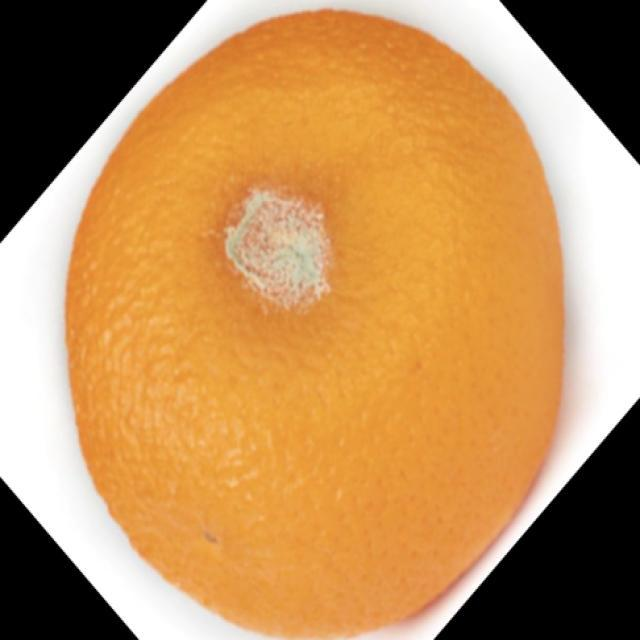sedikit-busuk: (66, 11, 562, 634)
